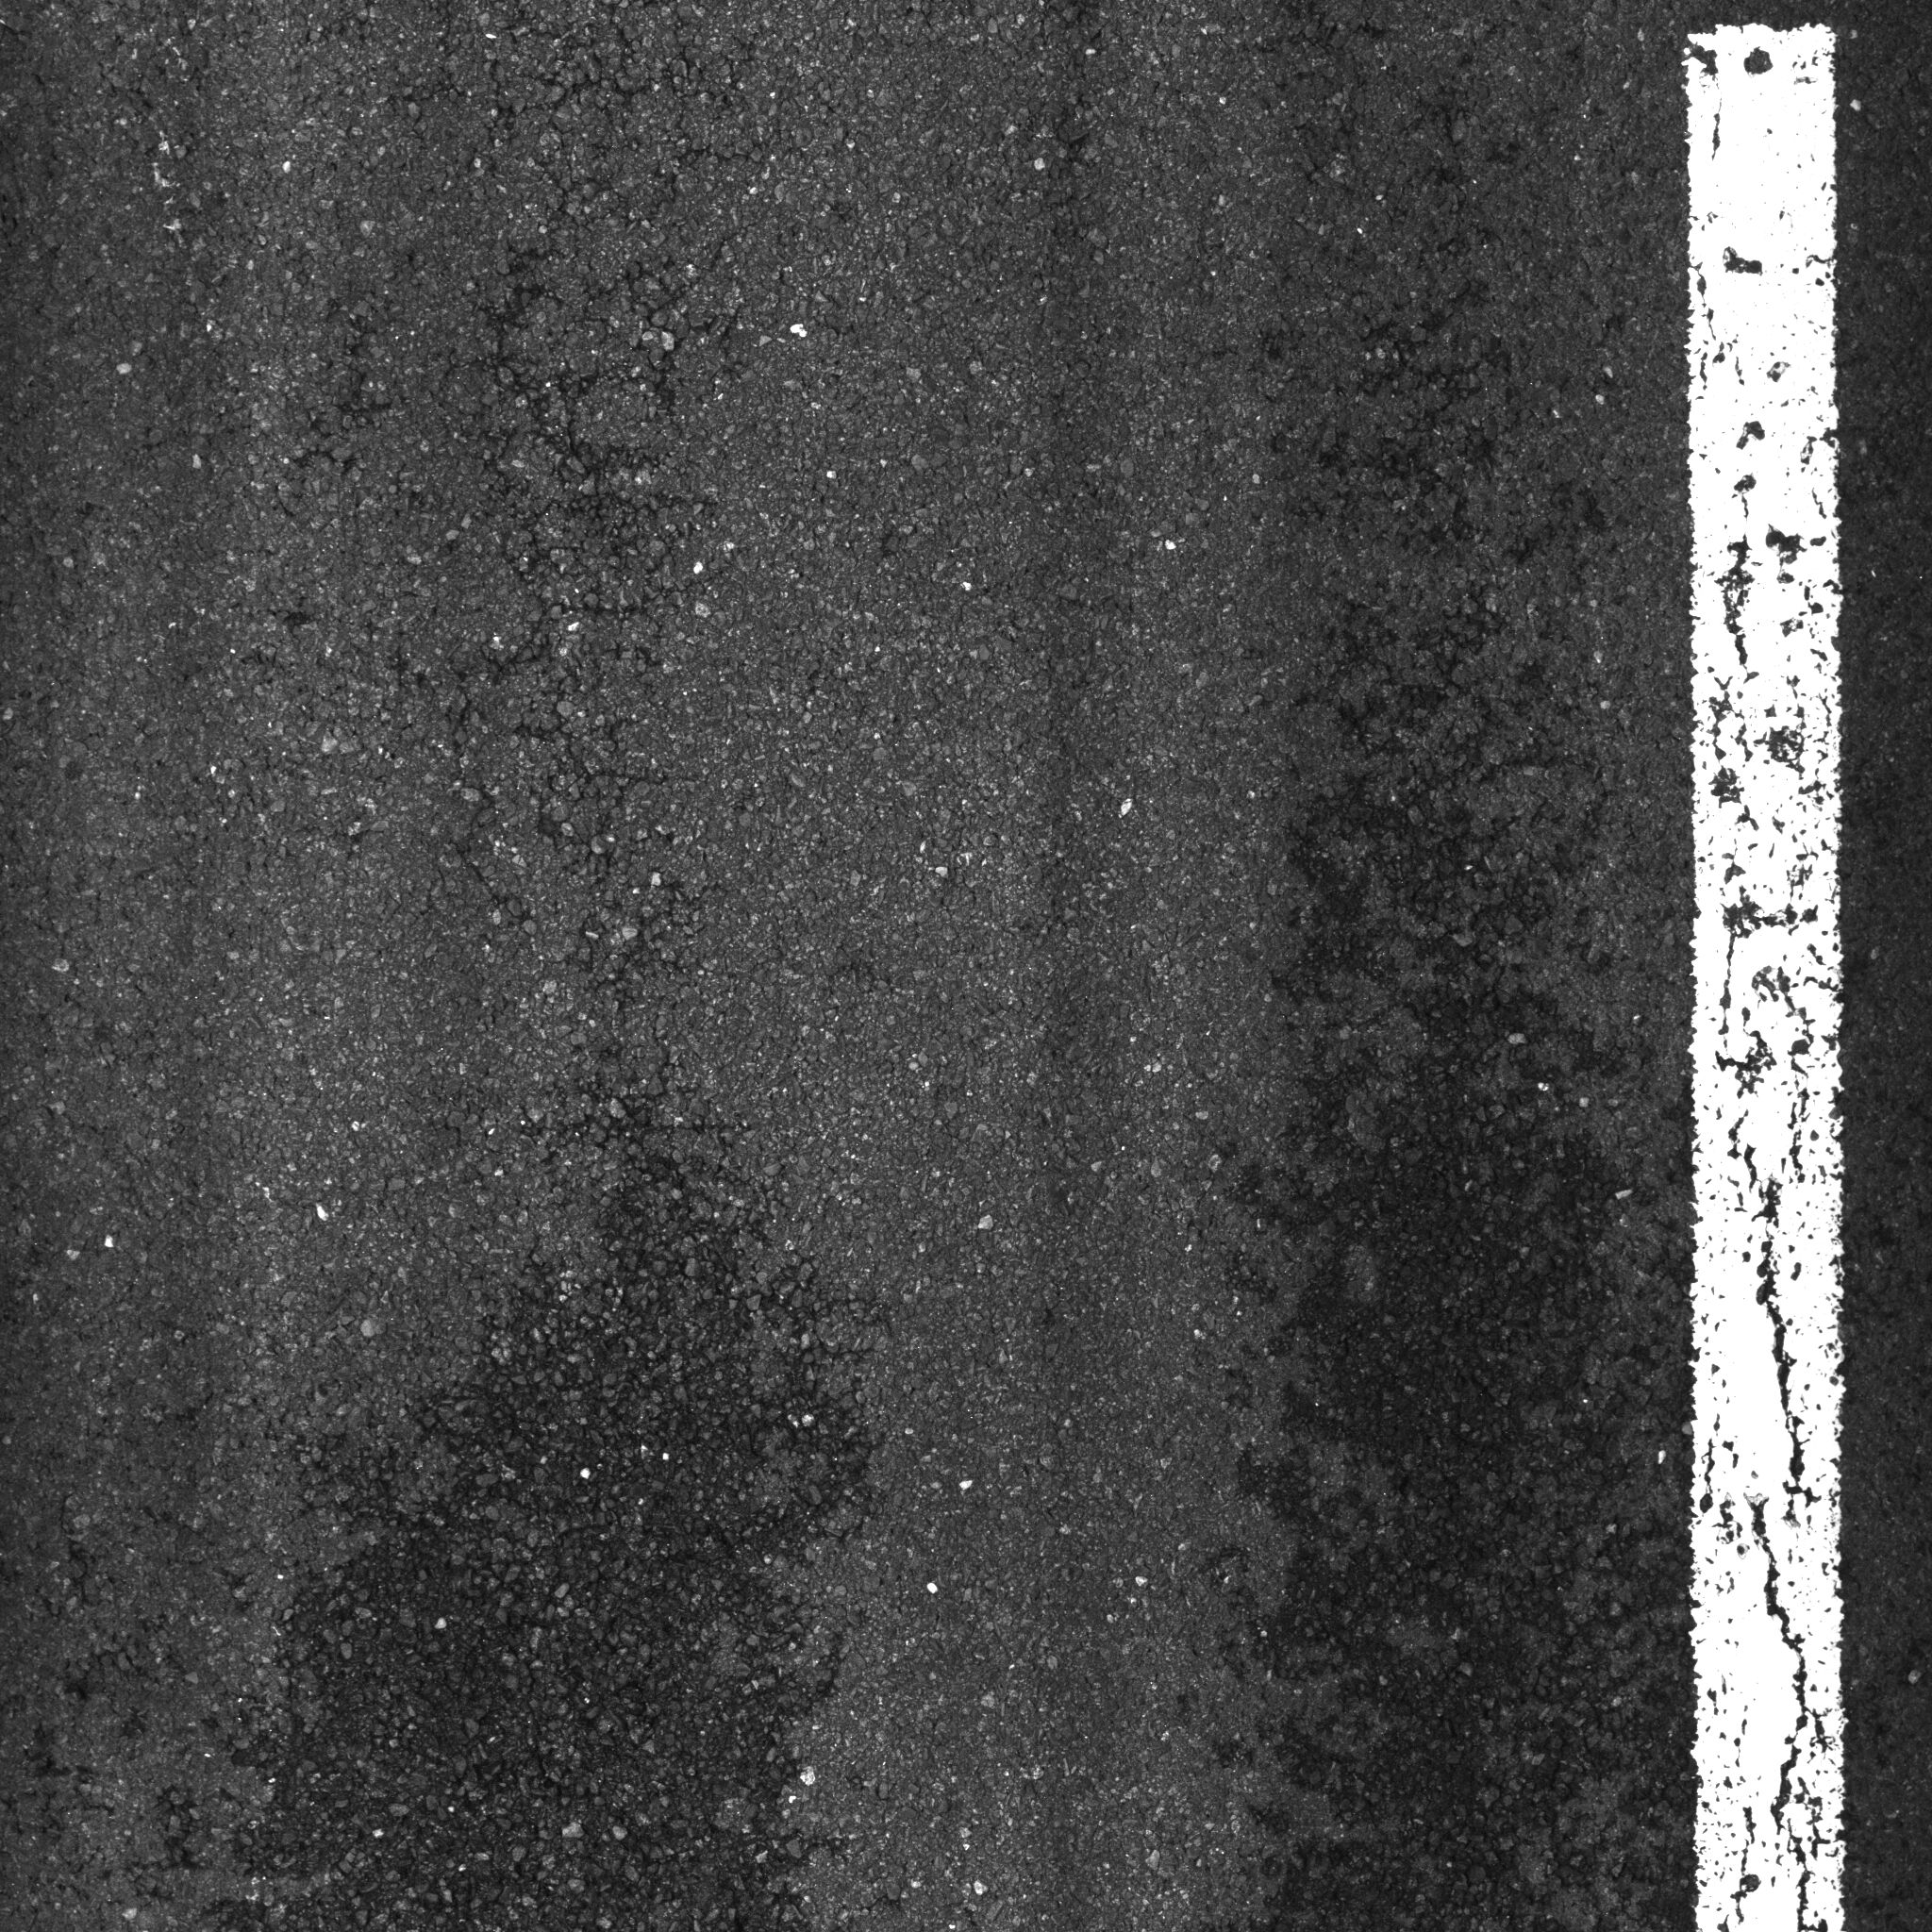alligator: (219, 117, 911, 1911), (1162, 439, 1877, 1932)
